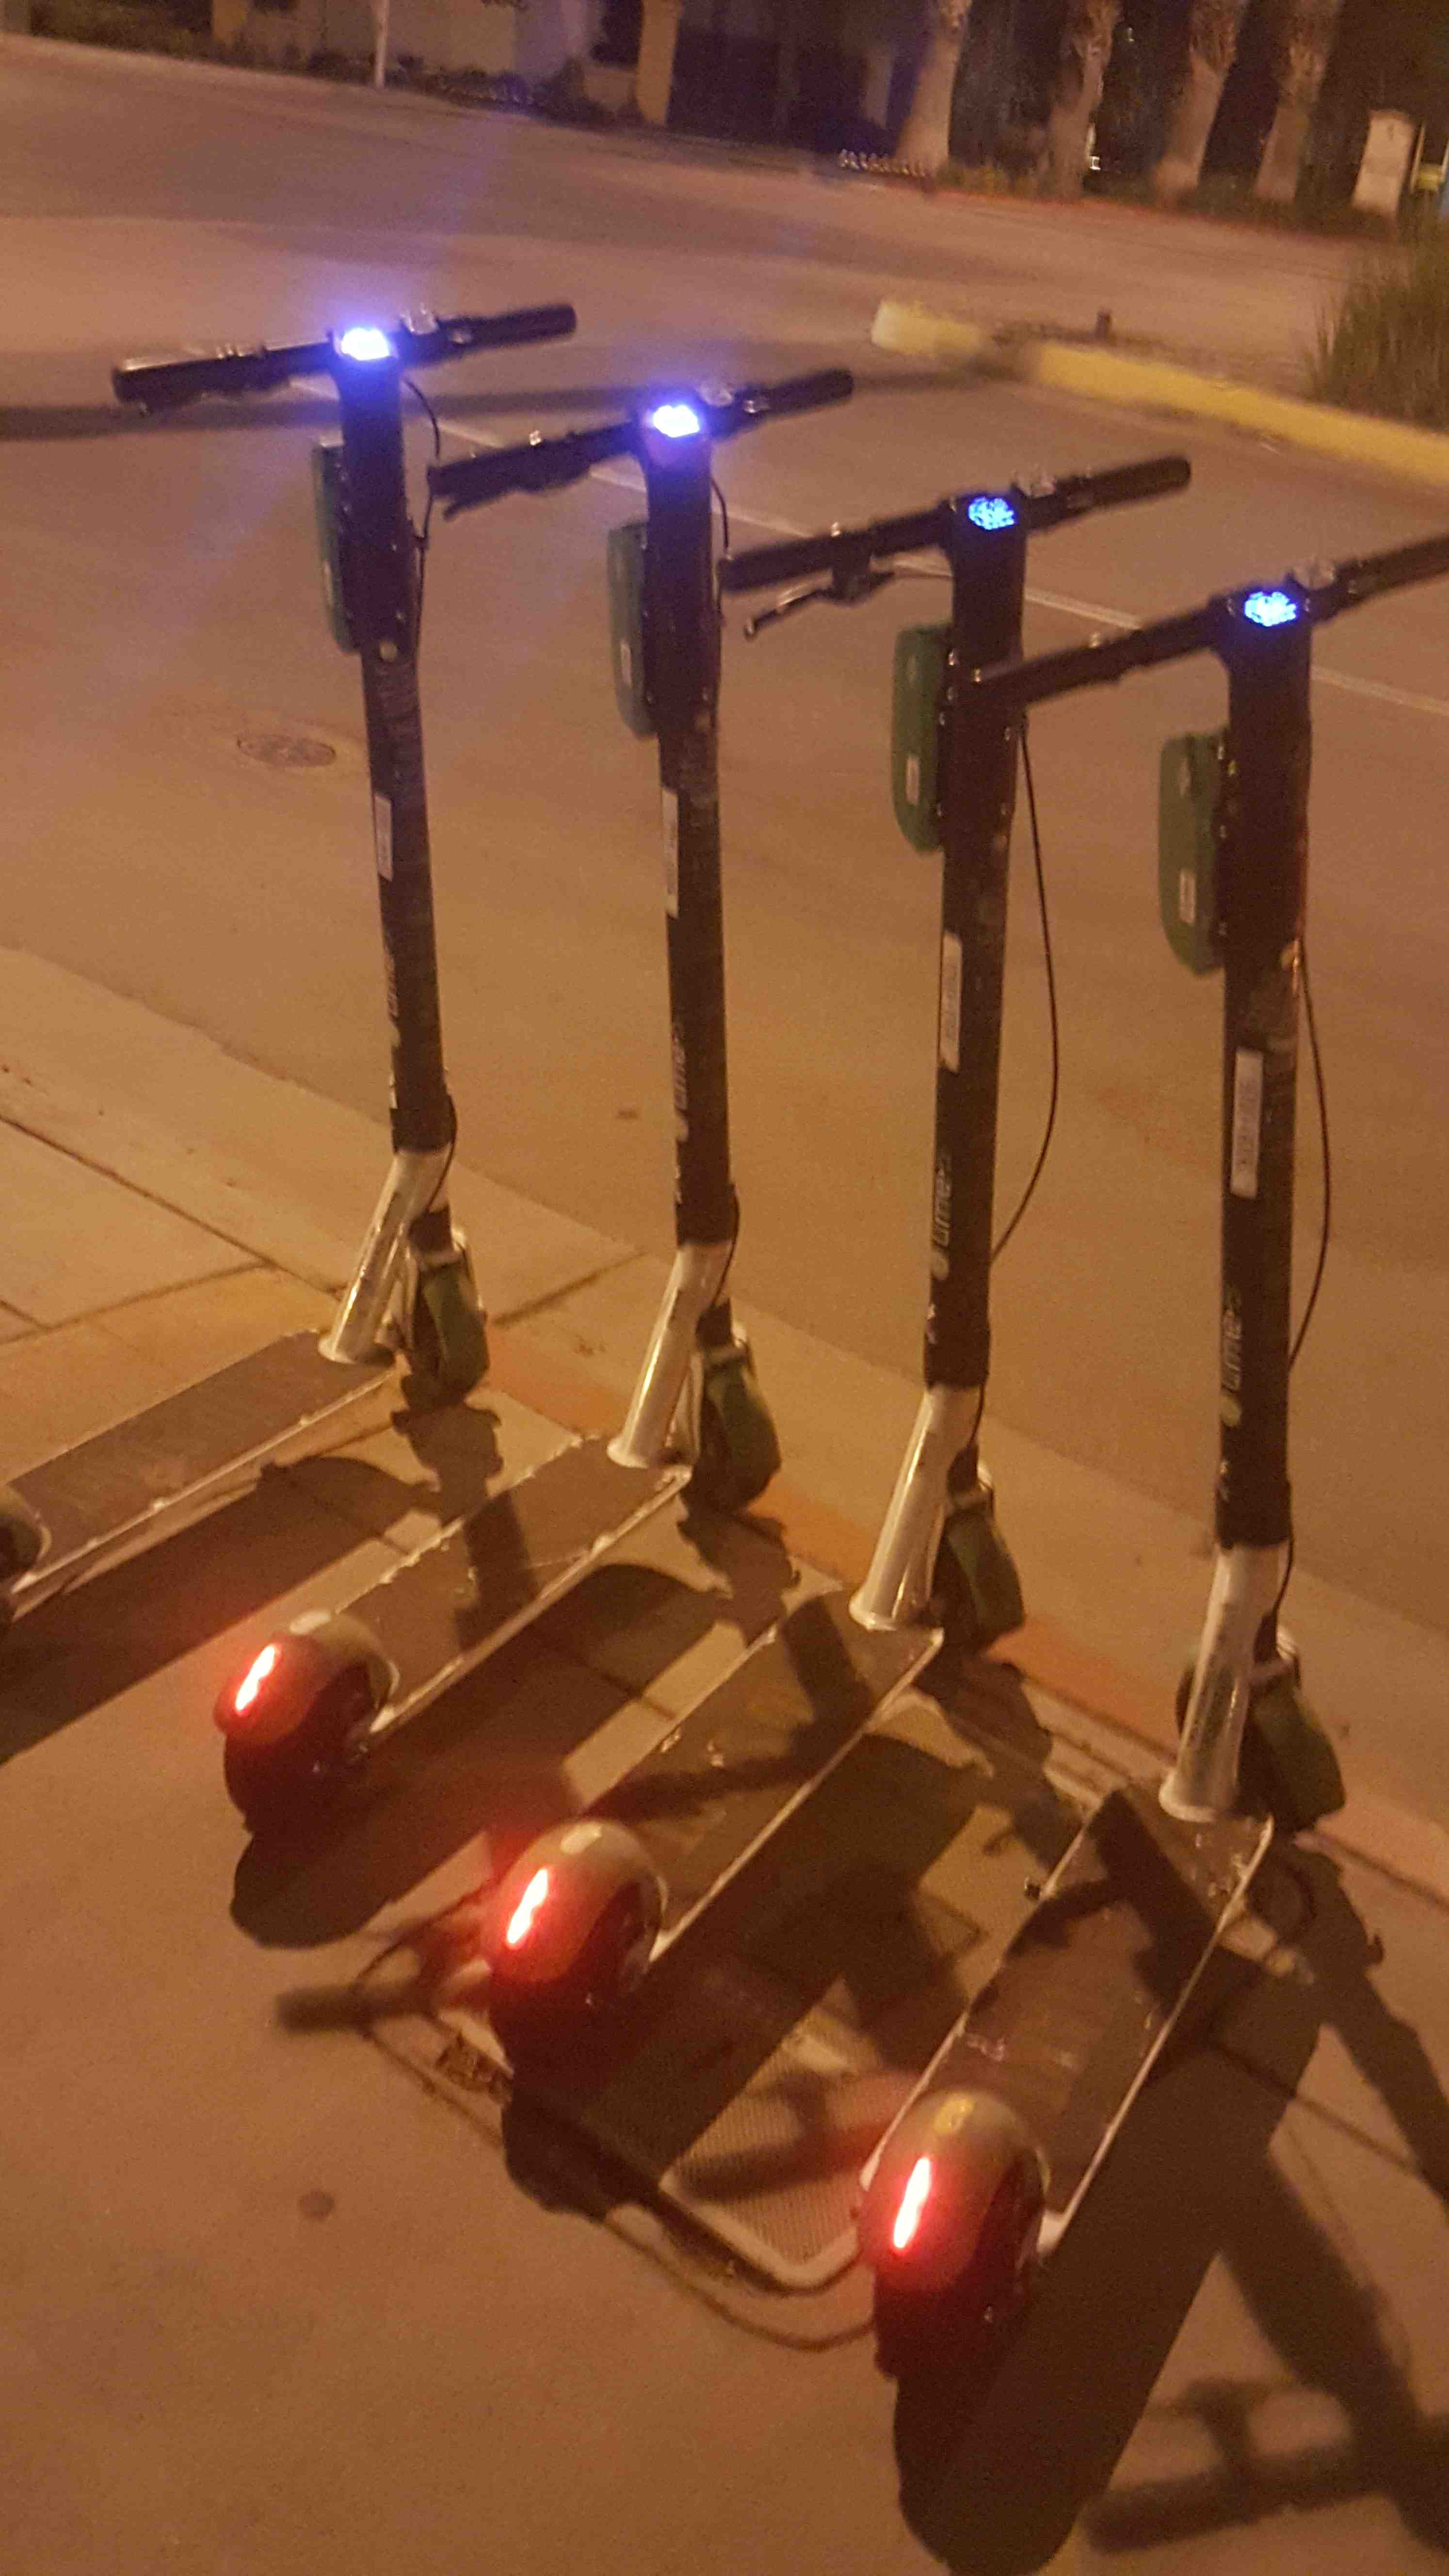too close: (1113, 1615, 1422, 1888), (833, 1447, 1118, 1713), (566, 1313, 851, 1568), (290, 1185, 575, 1428)
